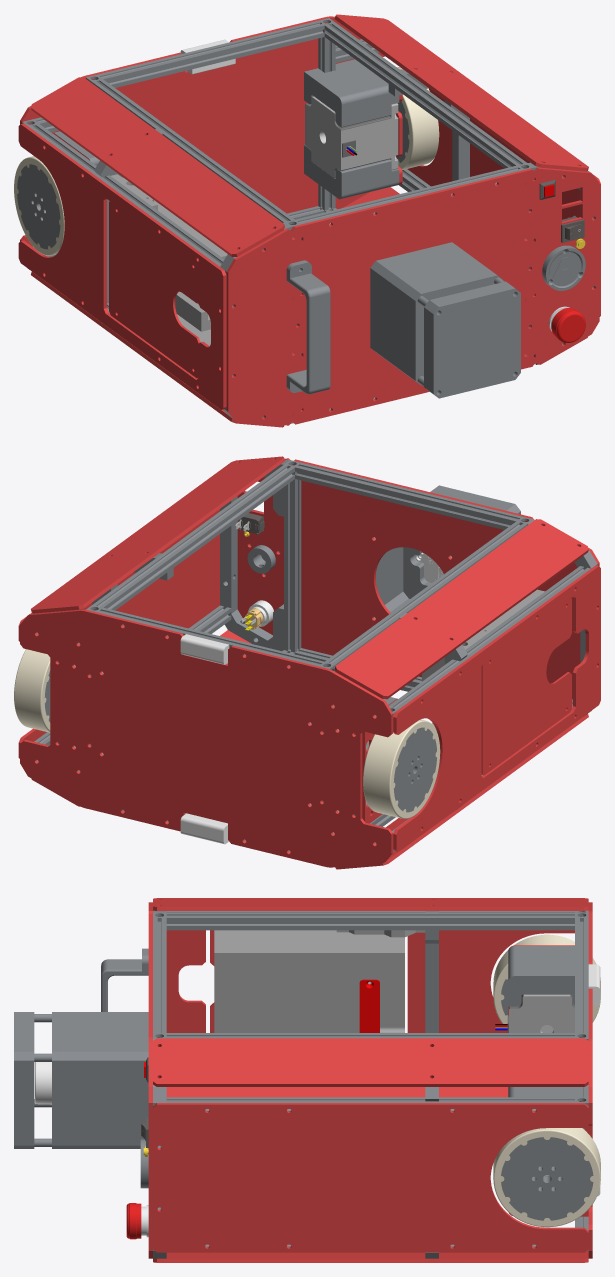
The model's file is base_roulante.glb.
3 views of the same model, one above another, from view 1: azimuth 30°, elevation 25°; view 2: azimuth 150°, elevation 25°; view 3: azimuth 270°, elevation 25° (orthographic). The views are drawn at different scales.
Parts seen in each view (by area): view 1: Part 1 (×11), plaque haut mid, grande plaque gauche, MB30 (×6), plaque haut d, plaque batterie, plaque haut g, NEMA 23 23HS20-2004S, Part 2, pneu (×2), plaque droite, jante (+1 smaller); view 2: Part 1 (×10), MB30 (×7), plaque haut mid, grande plaque gauche, plaque batterie, pneu (×2), plaque droite, plaque haut g, coin sup, jante, plaque haut d, Part 3; view 3: Part 1 (×12), plaque droite, MB30 (×6), grande plaque gauche, jante, pneu (×2), NEMA 23 23HS20-2004S, coin inf, plaque haut g, Part 2, 00_LD19-TOF_WAIFA, plaque haut mid.
Part boxes in pixels (x1,y1,x2,y2): Part 1 (×11): (20,14,588,427); plaque haut mid: (290,168,535,424); grande plaque gauche: (18,123,226,409); MB30 (×6): (29,21,526,266); plaque haut d: (226,228,303,425); plaque batterie: (109,201,200,378); plaque haut g: (524,167,599,364); NEMA 23 23HS20-2004S: (305,96,398,177); Part 2: (304,59,399,127); pneu (×2): (14,67,439,255); plaque droite: (407,88,600,316); jante: (17,164,60,249); Part 1 (×10): (20,456,588,869); MB30 (×7): (34,462,590,745); plaque haut mid: (293,459,533,677); grande plaque gauche: (393,565,600,851); plaque batterie: (481,598,571,775); pneu (×2): (14,649,440,818); plaque droite: (18,509,219,758); plaque haut g: (237,458,289,634); coin sup: (220,459,289,651); jante: (393,727,436,812); plaque haut d: (537,548,599,711); Part 3: (362,699,396,823); Part 1 (×12): (14,898,592,1262); plaque droite: (153,1103,588,1252); MB30 (×6): (153,911,588,1111); grande plaque gauche: (166,930,574,1032); jante: (501,1137,593,1220); pneu (×2): (493,934,600,1227); NEMA 23 23HS20-2004S: (495,994,574,1032); coin inf: (425,911,438,1032); plaque haut g: (148,1041,152,1258); Part 2: (508,1087,585,1130); 00_LD19-TOF_WAIFA: (35,1062,51,1104); plaque haut mid: (148,914,152,1040).
Size of the model in its own units: 0.3414 by 0.1748 by 0.431.
